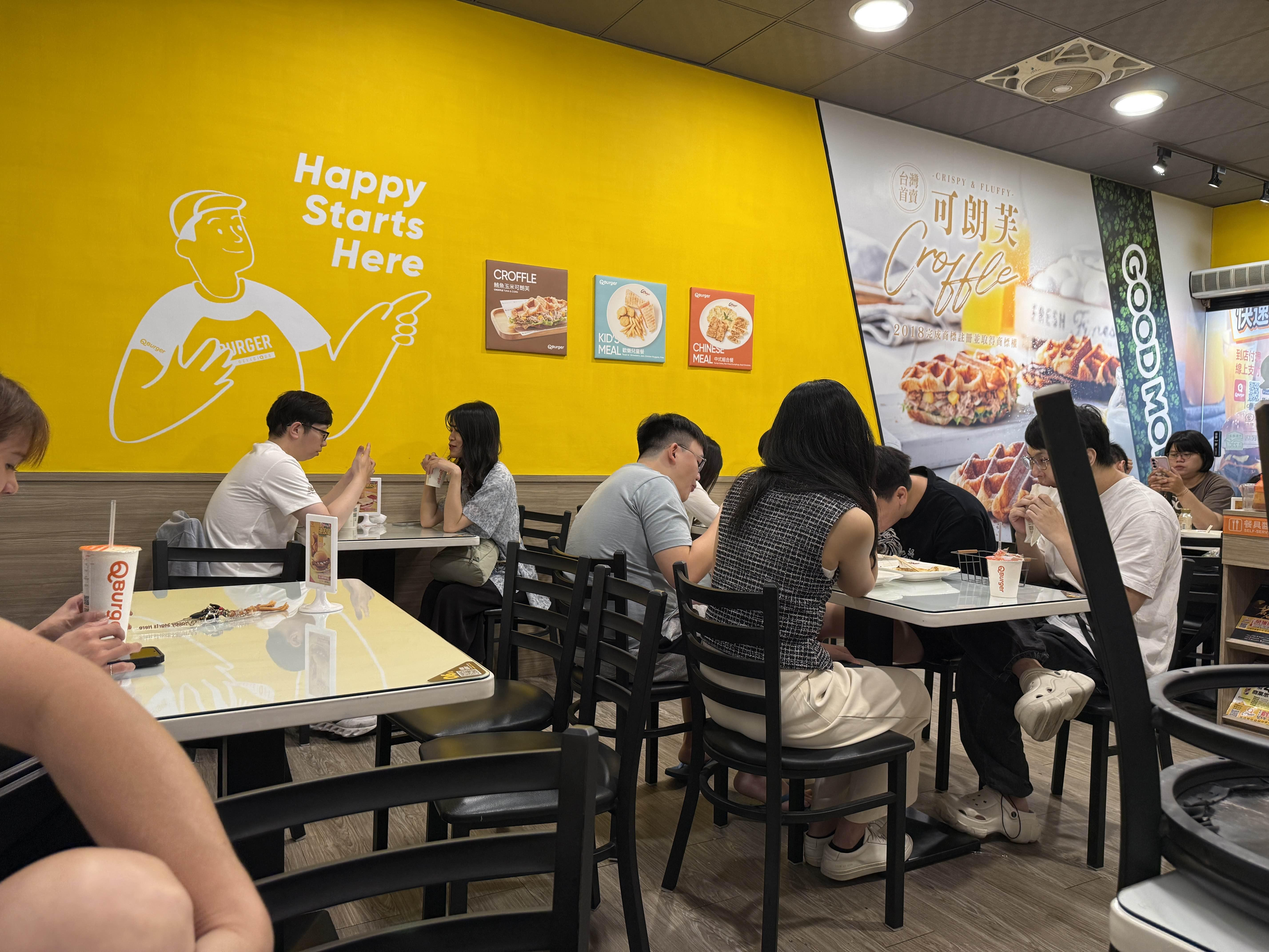NoHelmet: (774, 379, 864, 481), (634, 410, 710, 482), (269, 391, 333, 458), (445, 401, 502, 466), (1164, 429, 1213, 479)
